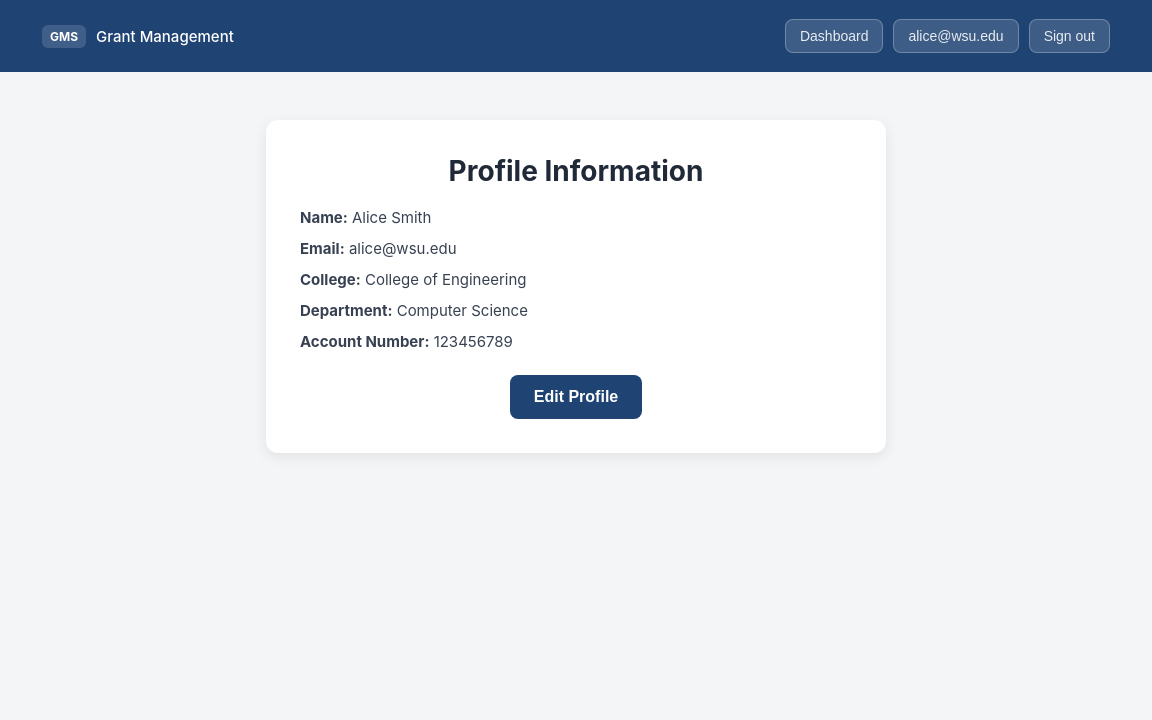
Test: Profile › submits the update with userId and form data, then exits edit mode
This screenshot has width=1152, height=720.
Step 1. Click the button "Edit Profile" → [576, 397], box top-left (510, 375), bottom-right (642, 419)
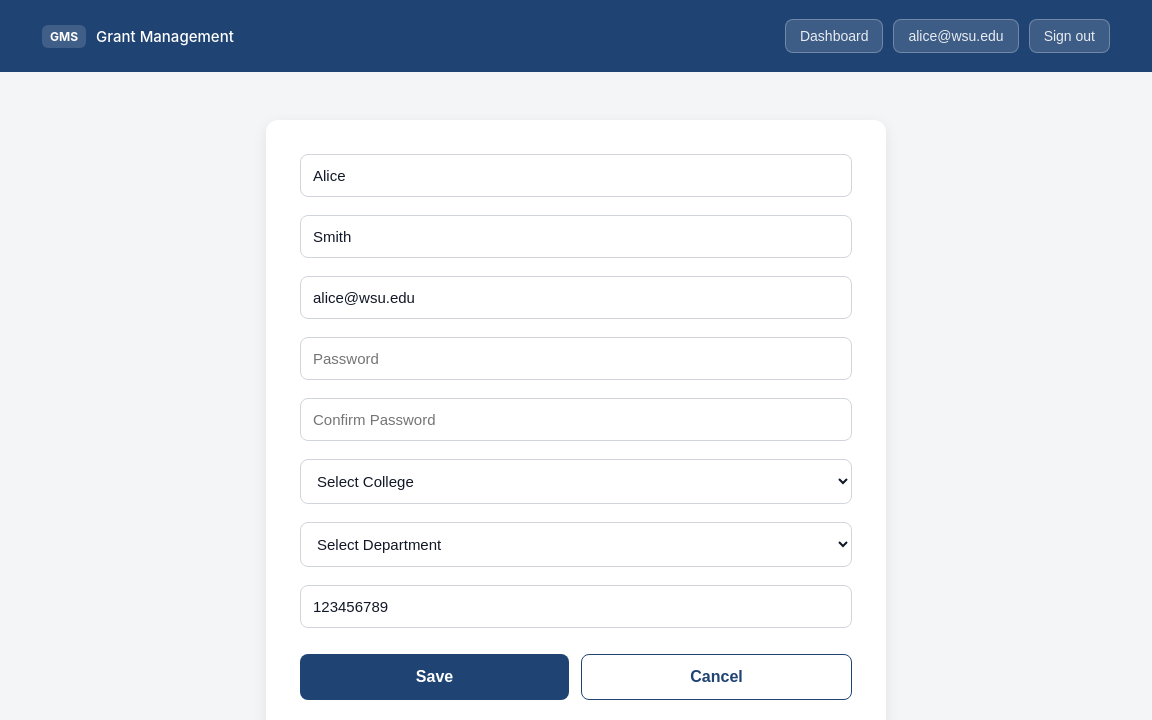
Step 2. Replace the text in the 1st field with placeholder "First Name" with "Alicia" → [576, 176], box top-left (300, 154), bottom-right (852, 197)
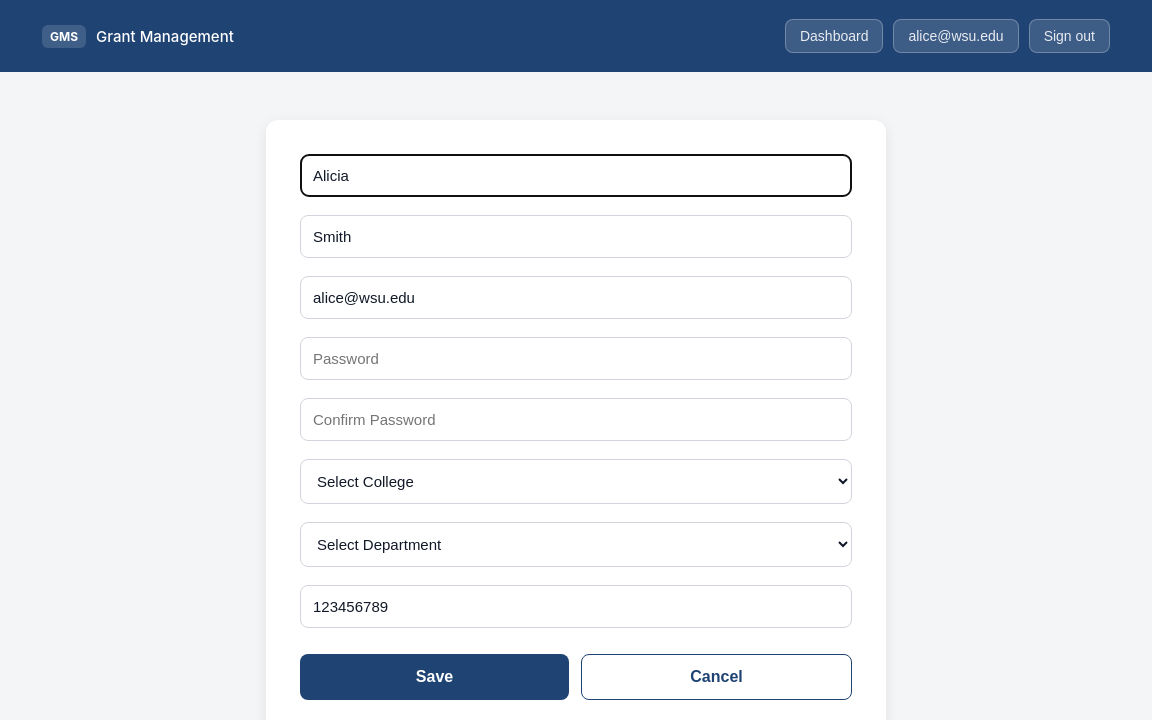
Step 3. Click the button "Save" → [434, 677], box top-left (300, 654), bottom-right (569, 700)
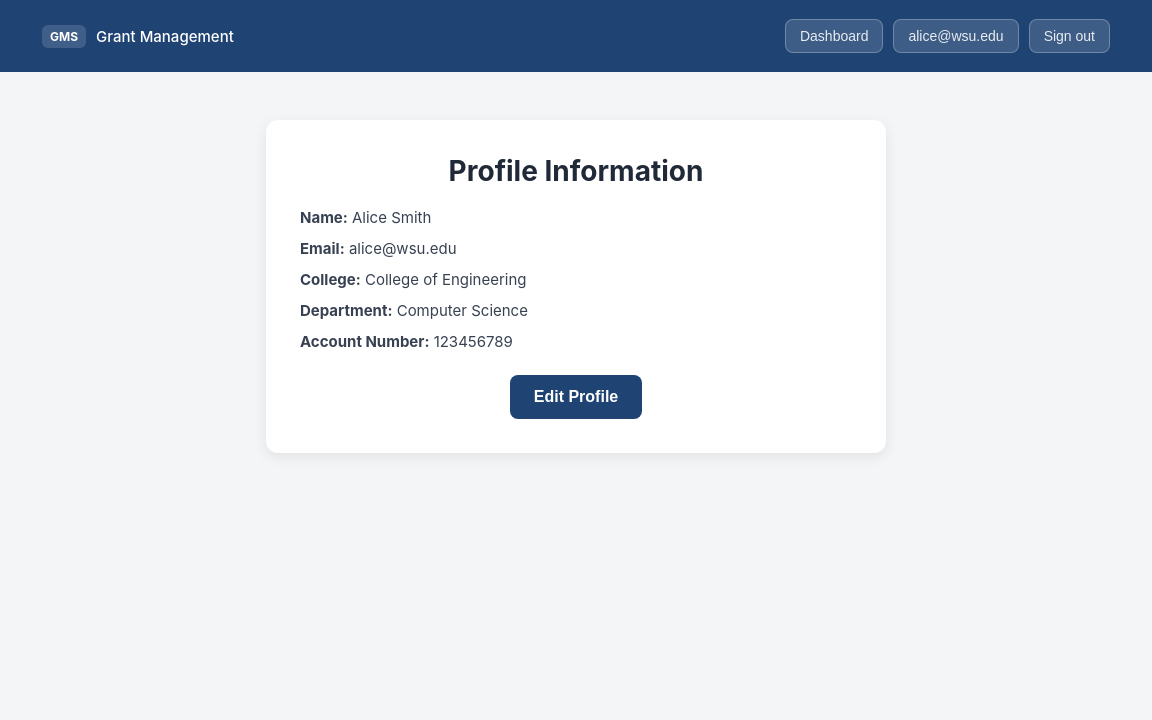
Expected: the button "Edit Profile" is shown, top-left (510, 375), bottom-right (642, 419)
